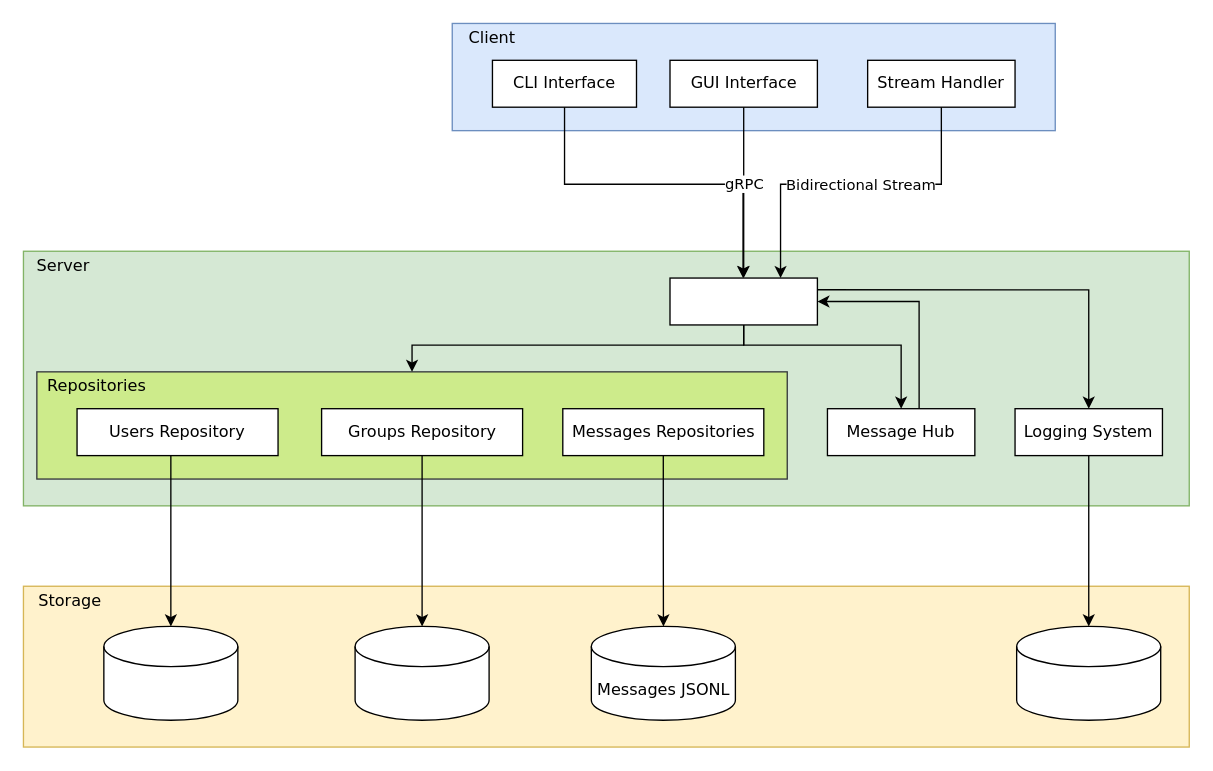
The diagram is 1213 pixels wide and 771 high, and some of its shapes have lost their labels. Each missing label, with the centre of its shape:
"Chat Service" belongs at [743,301].
"Groups JSONL" belongs at [421,672].
"Log Files" belongs at [1088,672].
"Users JSONL" belongs at [170,672].
